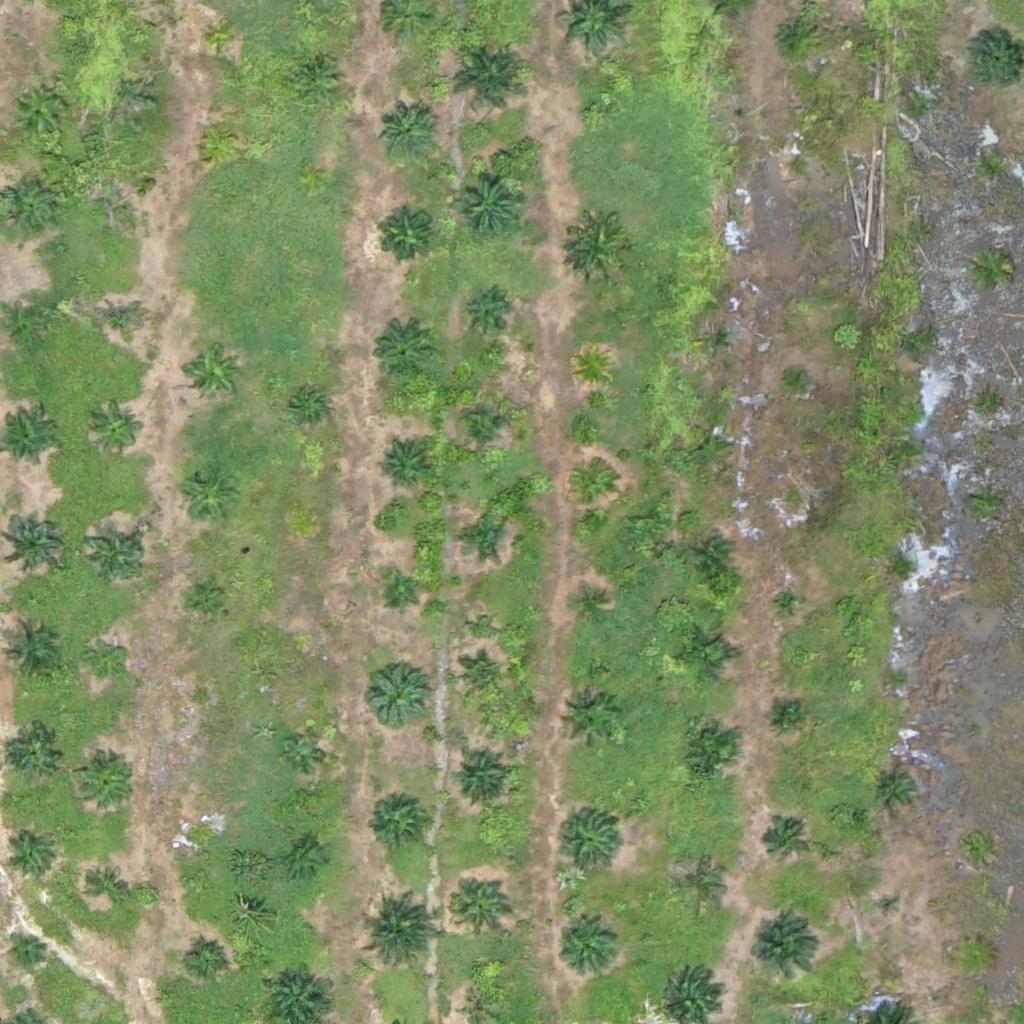Kelapa_Sawit: (447, 34, 534, 122), (746, 916, 821, 992), (358, 897, 433, 972), (450, 165, 525, 240), (364, 661, 427, 724), (175, 465, 238, 528), (376, 100, 439, 163), (567, 217, 630, 280), (182, 342, 245, 405), (365, 788, 427, 851), (85, 524, 147, 587), (1, 507, 63, 570), (370, 320, 432, 383), (374, 203, 436, 266), (448, 745, 510, 808), (558, 689, 620, 752), (678, 722, 740, 785), (556, 809, 618, 872), (560, 920, 622, 983), (450, 874, 512, 937), (10, 77, 72, 140), (677, 623, 739, 686), (91, 403, 141, 454), (376, 441, 426, 492), (453, 511, 503, 562), (767, 10, 817, 61), (759, 815, 809, 866), (95, 297, 145, 348), (7, 295, 57, 346), (11, 726, 61, 776), (81, 758, 131, 808), (457, 291, 507, 341), (290, 50, 340, 100), (674, 860, 724, 910), (873, 763, 923, 813), (454, 654, 504, 704), (458, 405, 508, 455), (6, 830, 56, 880), (9, 932, 47, 970), (573, 348, 611, 386), (957, 937, 995, 975), (771, 585, 809, 623), (695, 537, 733, 575), (575, 470, 613, 508), (574, 590, 612, 628), (691, 428, 729, 466), (203, 20, 241, 58), (199, 120, 237, 158), (290, 391, 328, 429), (86, 643, 124, 681), (184, 826, 222, 864), (90, 868, 128, 906), (289, 842, 326, 880), (189, 940, 227, 977), (700, 322, 737, 360), (381, 574, 418, 612), (106, 172, 143, 210), (189, 580, 226, 617), (284, 730, 321, 767), (773, 701, 798, 727), (785, 362, 810, 387), (782, 153, 807, 178), (583, 100, 608, 125), (877, 891, 902, 916)
